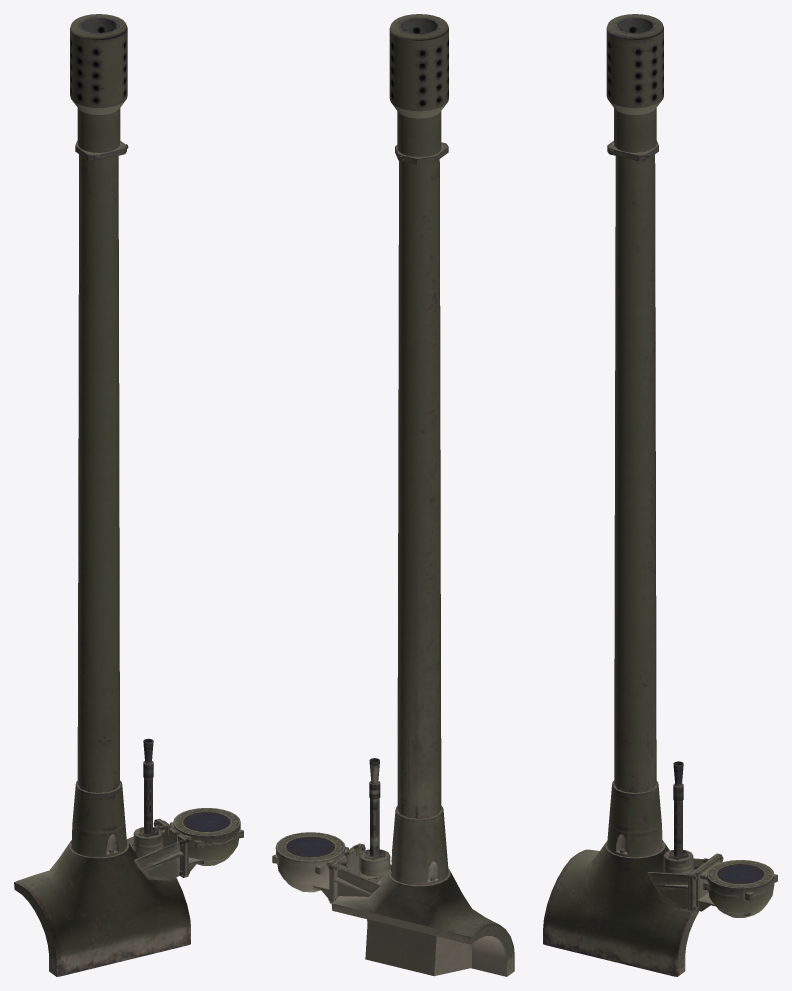
File: Gun_05.glb
3 renders of one model, left to right at view 1: azimuth 30°, elevation 25°; view 2: azimuth 150°, elevation 25°; view 3: azimuth 330°, elevation 25°, orthographic. The views are drawn at different scales.
Parts seen in each view (by area): view 1: set_0_group_0; view 2: set_0_group_0; view 3: set_0_group_0.
Part boxes in pixels (left/top/right/bottom): set_0_group_0: left=14, top=14, right=243, bottom=976; set_0_group_0: left=272, top=14, right=514, bottom=976; set_0_group_0: left=543, top=14, right=777, bottom=976.
Bounding box in the file's own units: 1.3 × 5.61 × 0.4953.
1 material, 1 textured.
